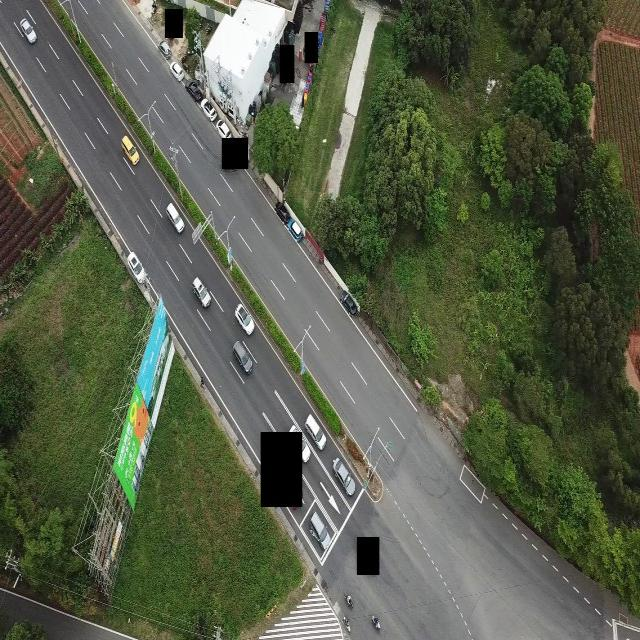bike: (370, 614, 380, 632), (344, 592, 353, 607)
car: (332, 456, 355, 496), (308, 511, 330, 550), (304, 413, 326, 449), (232, 340, 254, 373), (126, 251, 146, 283), (191, 276, 211, 307), (166, 201, 185, 233), (235, 303, 254, 335), (121, 135, 139, 165), (339, 291, 358, 316), (20, 17, 37, 44), (200, 96, 218, 120), (185, 80, 204, 101), (288, 221, 305, 244), (168, 60, 184, 81), (214, 119, 231, 138), (273, 197, 287, 220), (158, 39, 172, 58)
